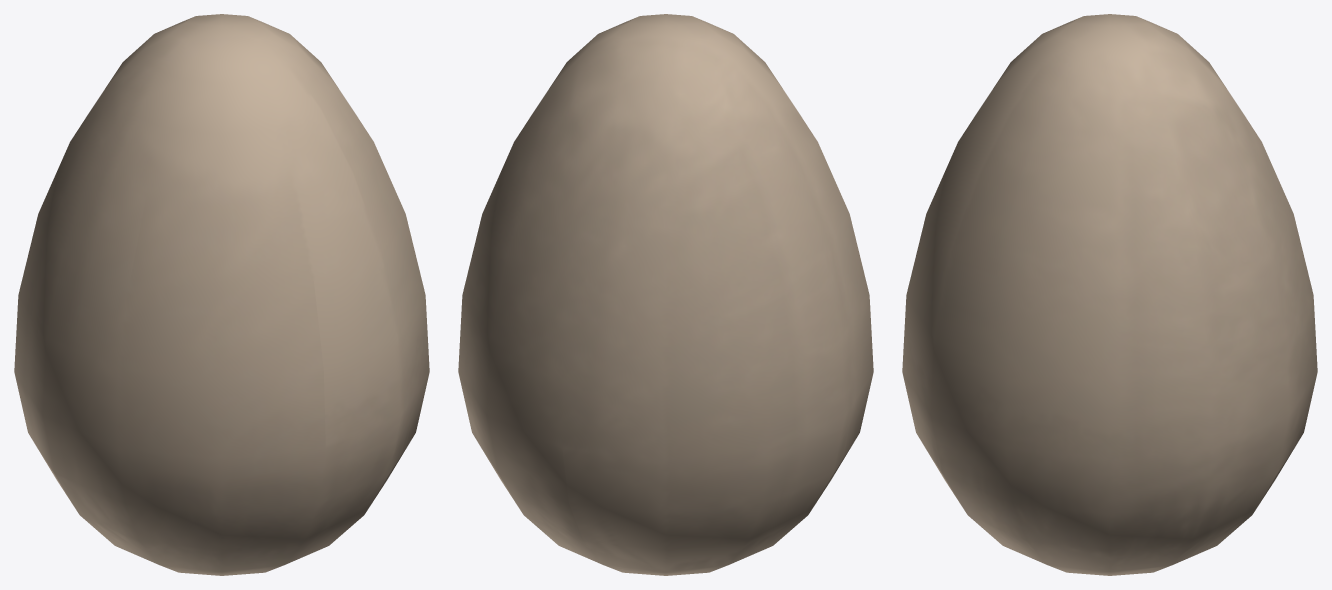
File: can_i_offer_you_a_fine_egg_in_this_trying_time.glb
3 renders of one model, left to right at view 1: azimuth 30°, elevation 25°; view 2: azimuth 150°, elevation 25°; view 3: azimuth 270°, elevation 25°, orthographic.
Visible parts, largest first — view 1: Fine Egg; view 2: Fine Egg; view 3: Fine Egg.
Boxes of the visible parts, box(x1,y1,x2,y2) form: Fine Egg: box(14, 14, 429, 575); Fine Egg: box(458, 14, 873, 575); Fine Egg: box(902, 14, 1317, 575).
Bounding box in the file's own units: 0.3309 × 0.4667 × 0.3323.
Materials: 1 (1 with a texture image).
